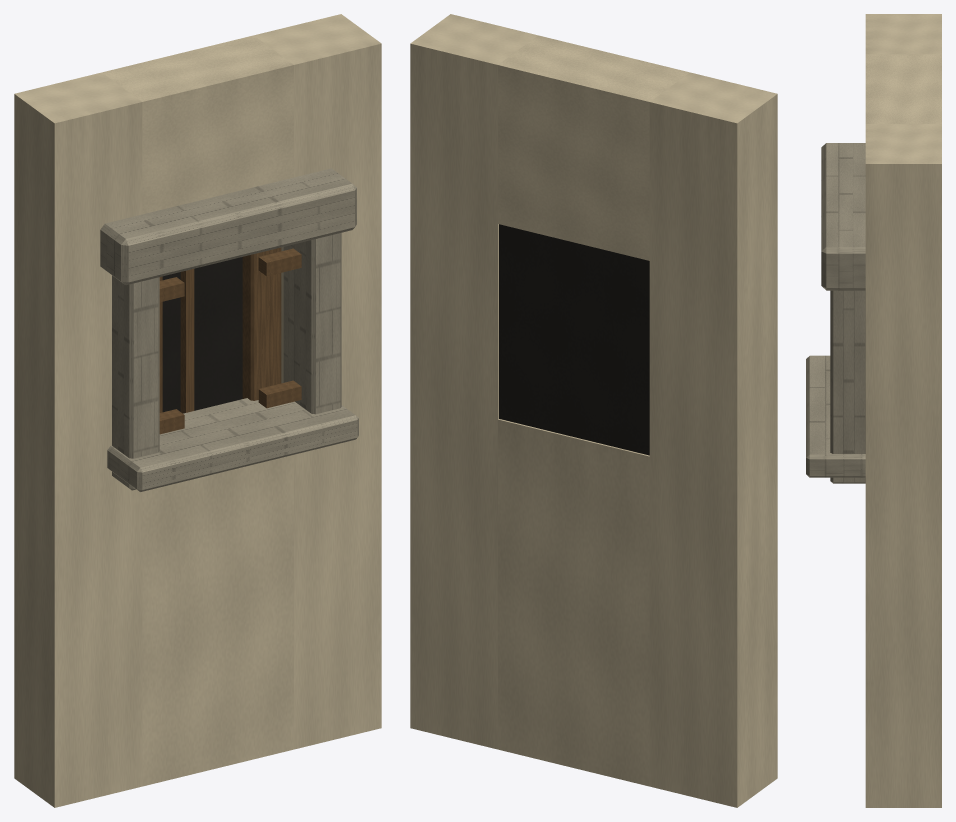
The model's file is module-window-bay.glb.
The picture shows the model from 3 angles, left to right: view 1: azimuth 30°, elevation 25°; view 2: azimuth 150°, elevation 25°; view 3: azimuth 270°, elevation 25°; orthographic projection. The views are drawn at different scales.
Visible parts, largest first — view 1: module-window-bay; view 2: module-window-bay; view 3: module-window-bay.
Part boxes in pixels (box(x1,y1,x2,y2)): module-window-bay: box(14, 14, 381, 807); module-window-bay: box(410, 14, 777, 807); module-window-bay: box(806, 14, 941, 807).
Size of the model in its own units: 1.4 by 2.8 by 0.535.
1 material, 1 textured.
